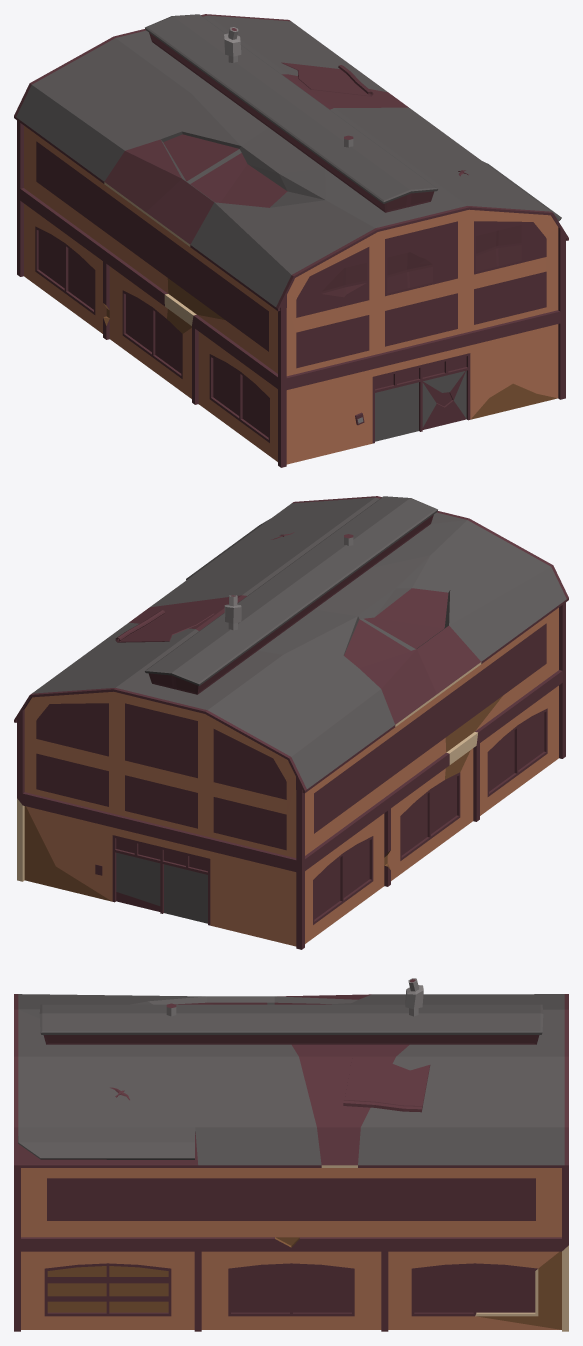
File: industry-factory-hall-apocalypse.fbx
3 renders of one model, top to bottom at view 1: azimuth 30°, elevation 25°; view 2: azimuth 150°, elevation 25°; view 3: azimuth 270°, elevation 25°, orthographic. The views are drawn at different scales.
Visible parts, largest first — view 1: industry-factory-hall-apocalypse; view 2: industry-factory-hall-apocalypse; view 3: industry-factory-hall-apocalypse.
Boxes of the visible parts, <box> form: industry-factory-hall-apocalypse: <box>14,14,568,467</box>; industry-factory-hall-apocalypse: <box>14,496,568,949</box>; industry-factory-hall-apocalypse: <box>14,978,568,1331</box>.
Bounding box in the file's own units: 13.03 × 11.15 × 20.08.
